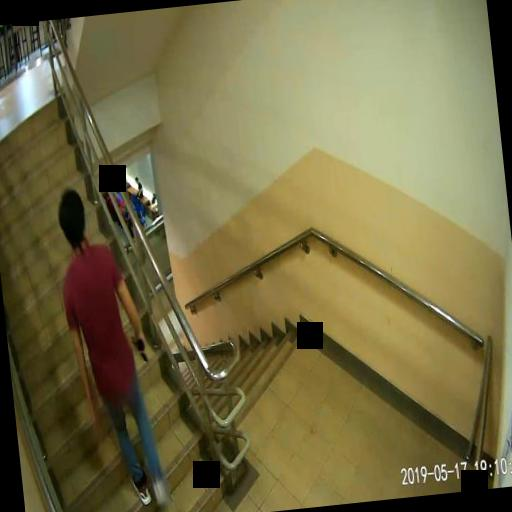Handgun: (130, 334, 146, 364)
